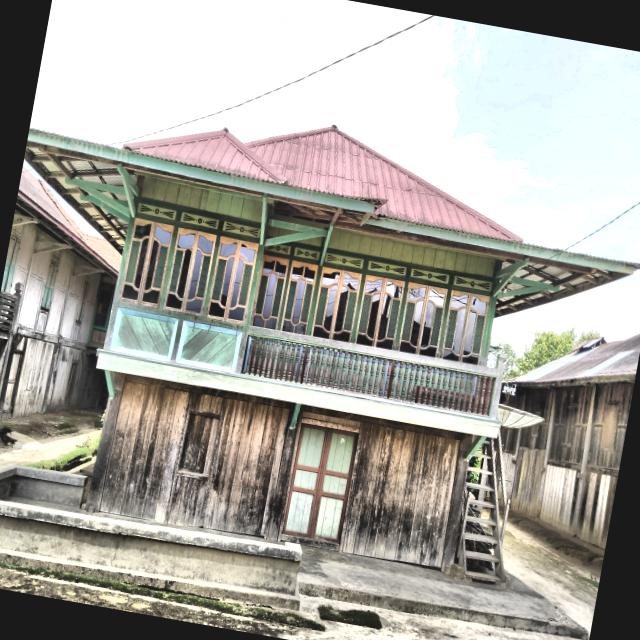door: (282, 425, 356, 543), (0, 351, 21, 418)
ornamen: (180, 212, 217, 229), (137, 203, 174, 220), (324, 253, 362, 269), (453, 275, 490, 291), (222, 222, 259, 238), (367, 261, 405, 276), (410, 269, 447, 283), (293, 247, 319, 260), (265, 244, 289, 255)
roof: (24, 127, 639, 315), (245, 126, 521, 242), (17, 167, 120, 273), (124, 129, 280, 183), (510, 333, 639, 385)
stair: (456, 438, 504, 582)
wall: (97, 376, 300, 539), (501, 382, 634, 549), (0, 223, 104, 417)
window: (283, 426, 355, 542), (120, 220, 170, 306), (207, 238, 256, 322), (165, 231, 214, 314), (355, 277, 403, 349), (399, 285, 446, 356), (312, 269, 358, 341), (442, 292, 487, 363), (178, 411, 218, 475), (252, 259, 287, 329), (282, 264, 315, 333), (90, 286, 113, 345), (1, 234, 20, 292), (41, 258, 57, 310), (92, 288, 112, 329), (75, 280, 88, 323)
